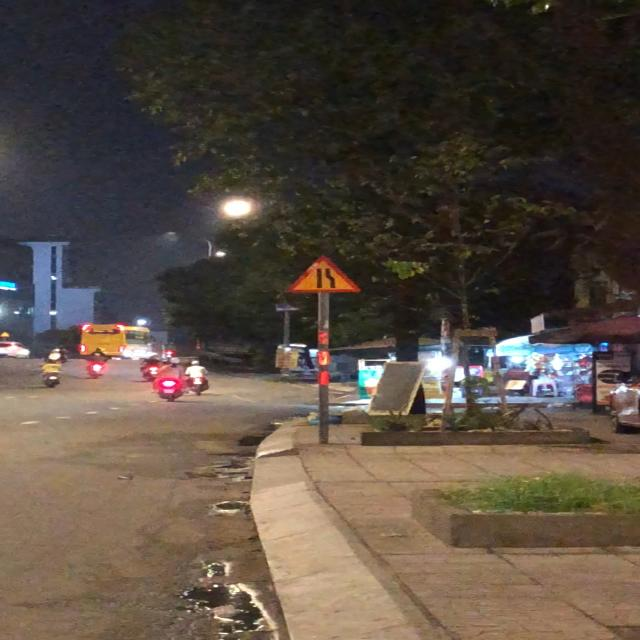Bien bao duong bi thu hep: (274, 254, 375, 302)
